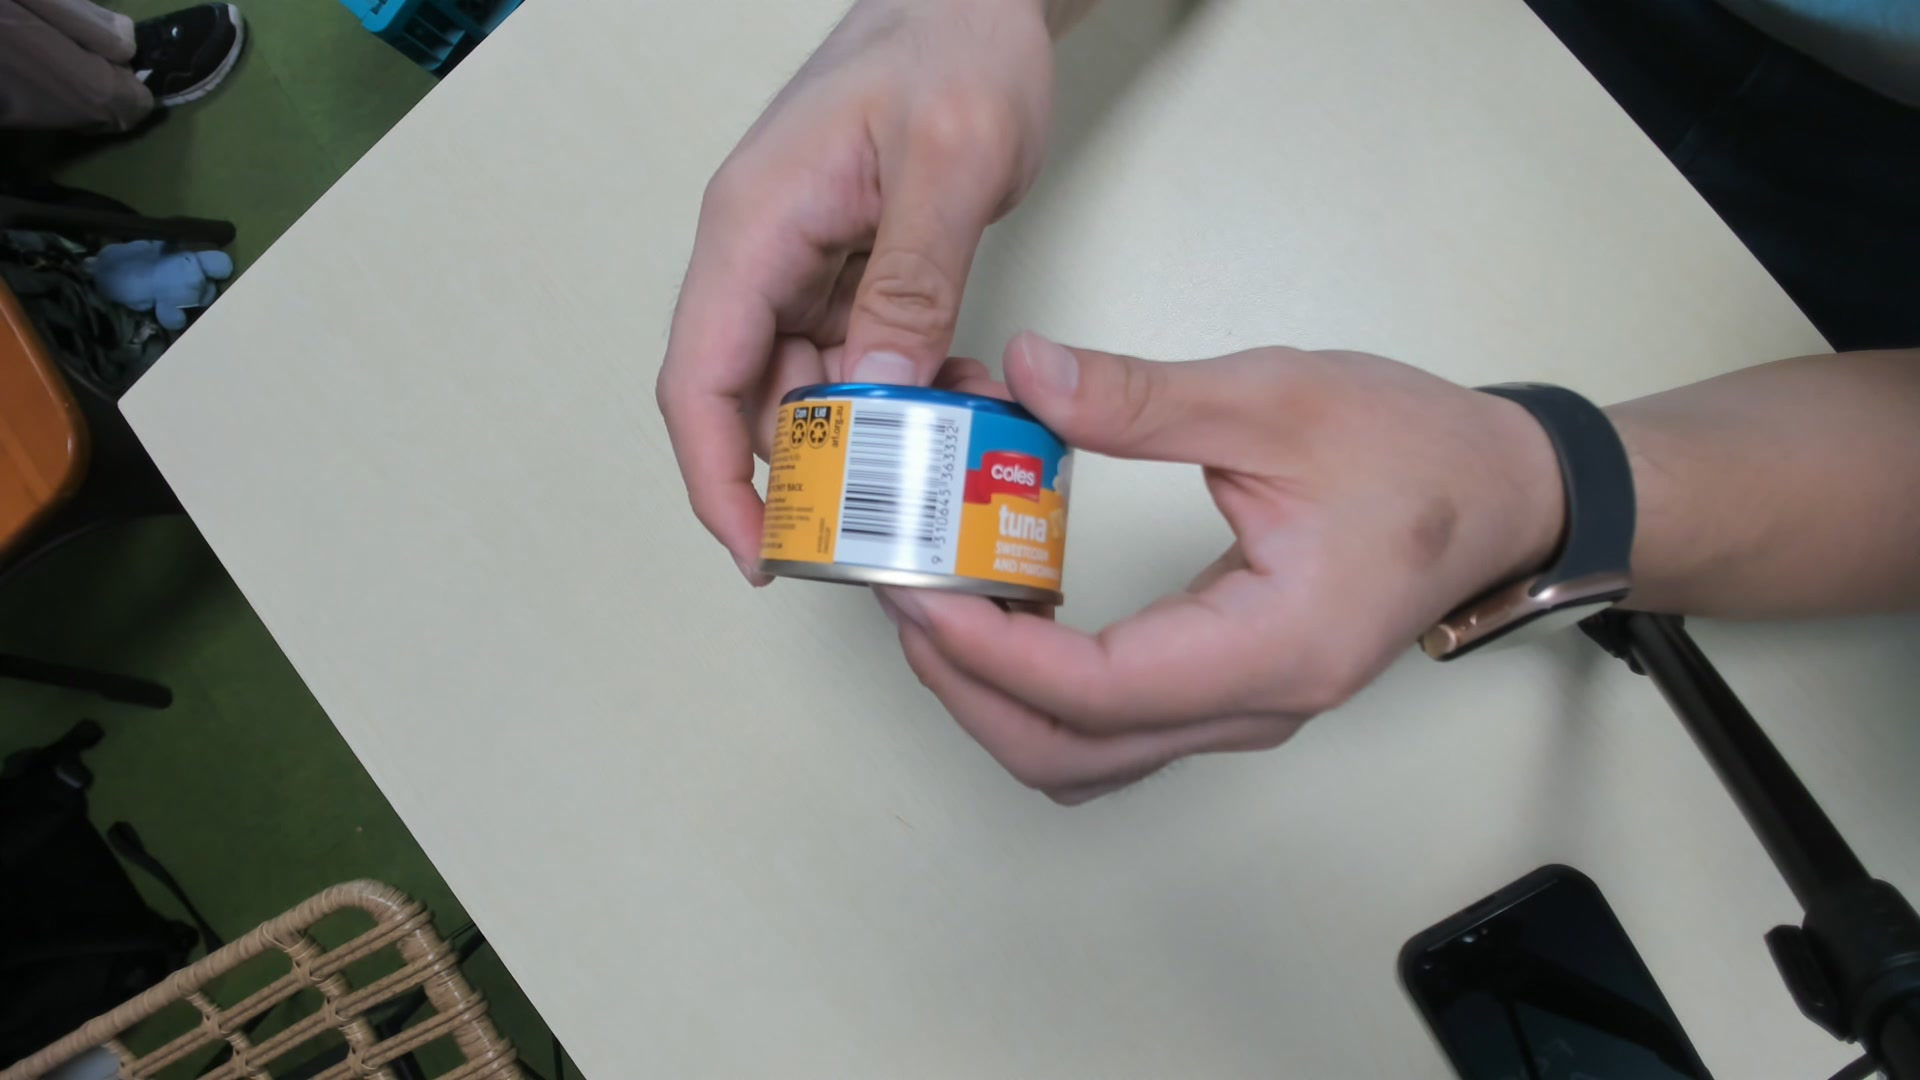OtherSauceDressing_0-99g_NonHalal_NonHealthy: (758, 381, 1077, 618)
